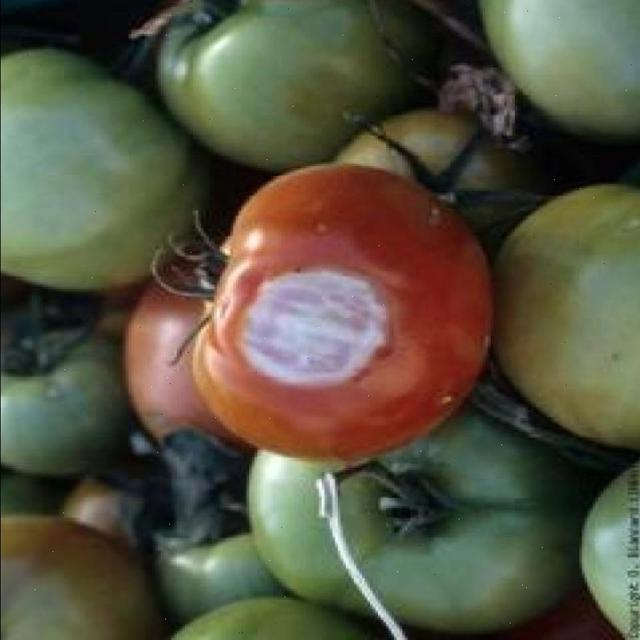Sunscald Fruit: (150, 167, 259, 264)
